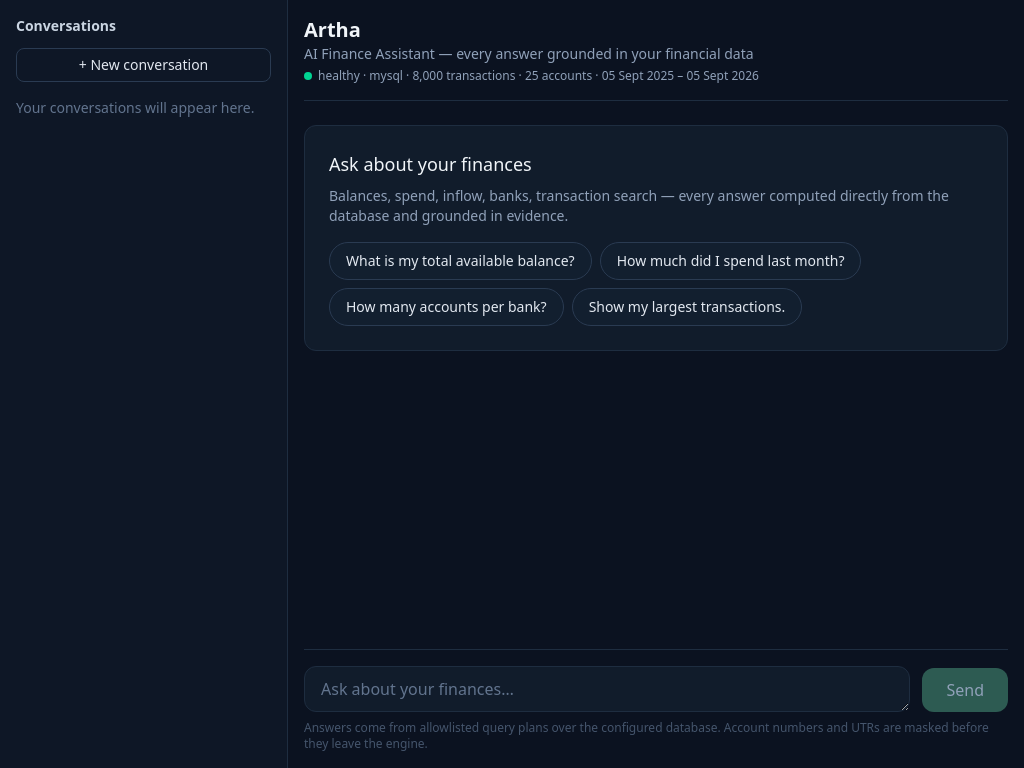
it: lists completed conversations and restores a selected conversation
expect the text "healthy · mysql" is shown: met, box [318,68,759,84]
Type "First question" into the text box named "Ask a question" at (607, 689), box [304,666,910,712]
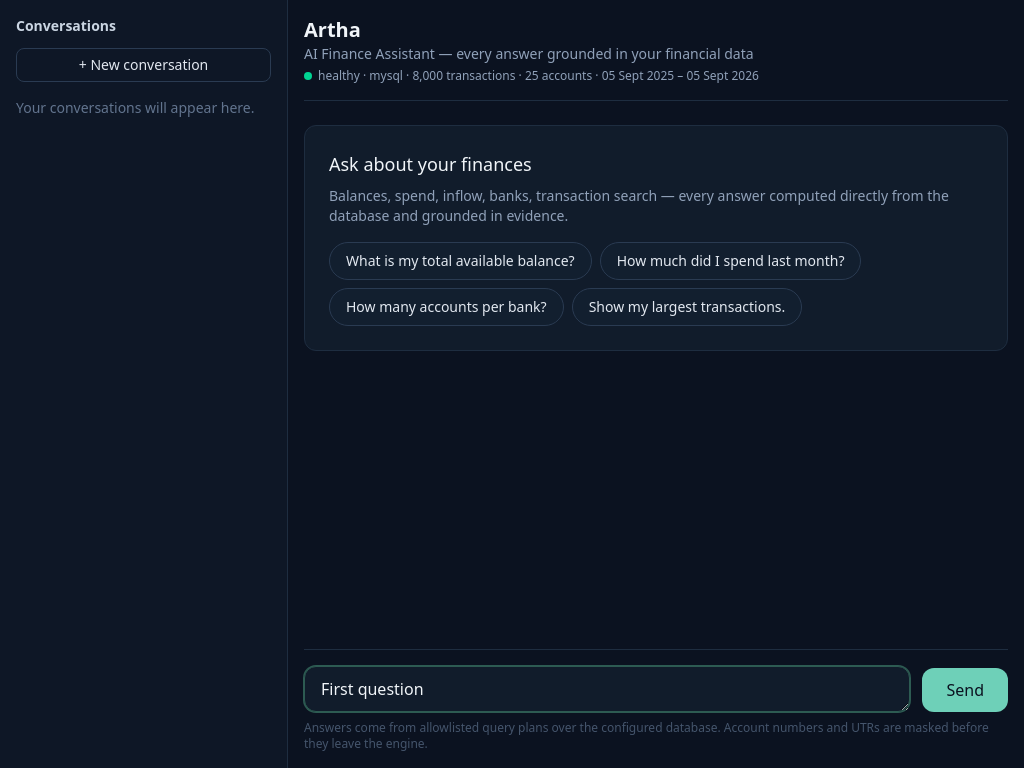
Click the button "Send" at (965, 690), box [922,668,1008,712]
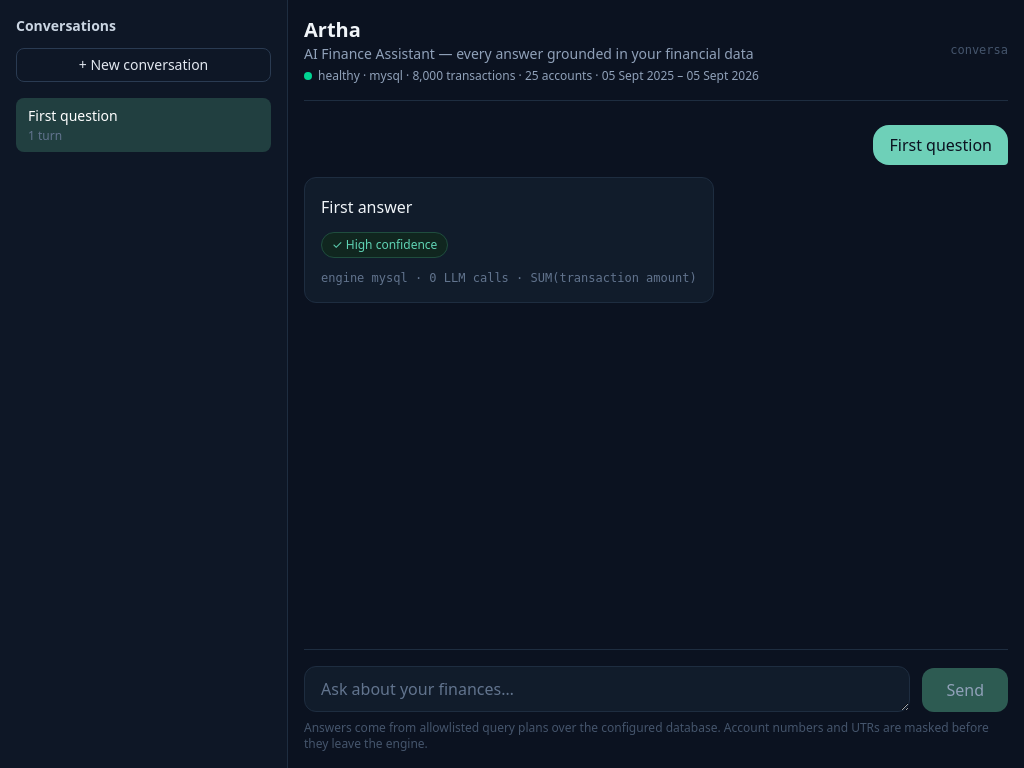
expect the text "First answer" is shown: met, box [321,196,412,218]
Click the button "+ New conversation" at (144, 65), box [16,48,271,82]
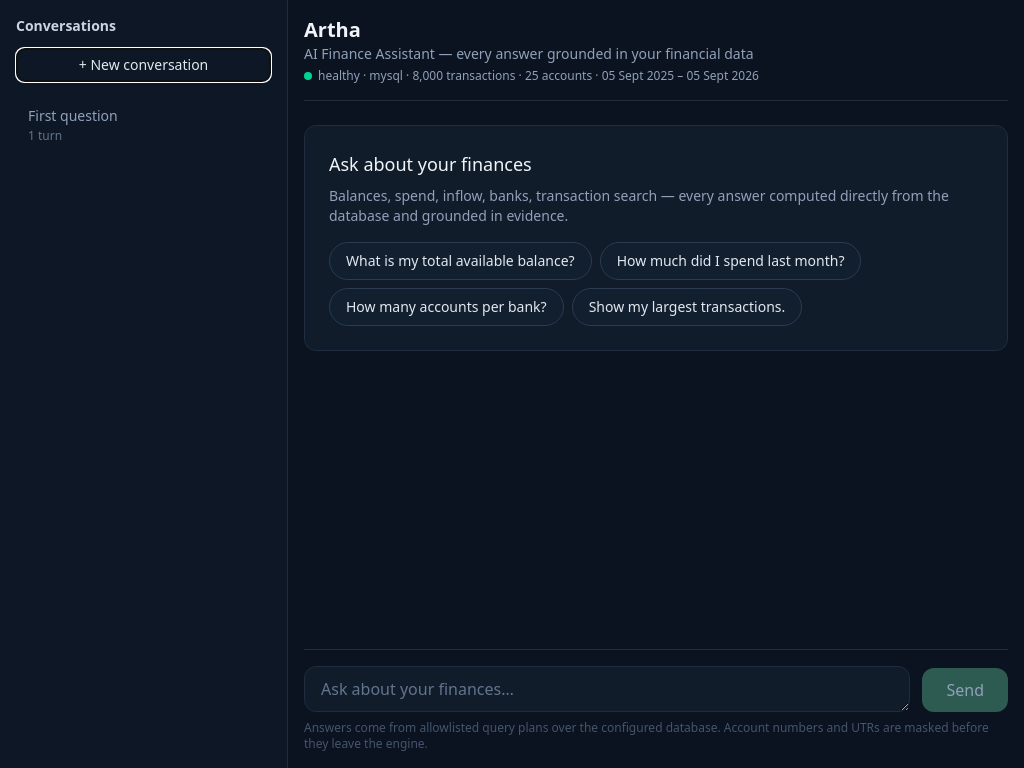
Type "Second question" into the text box named "Ask a question" at (607, 689), box [304,666,910,712]
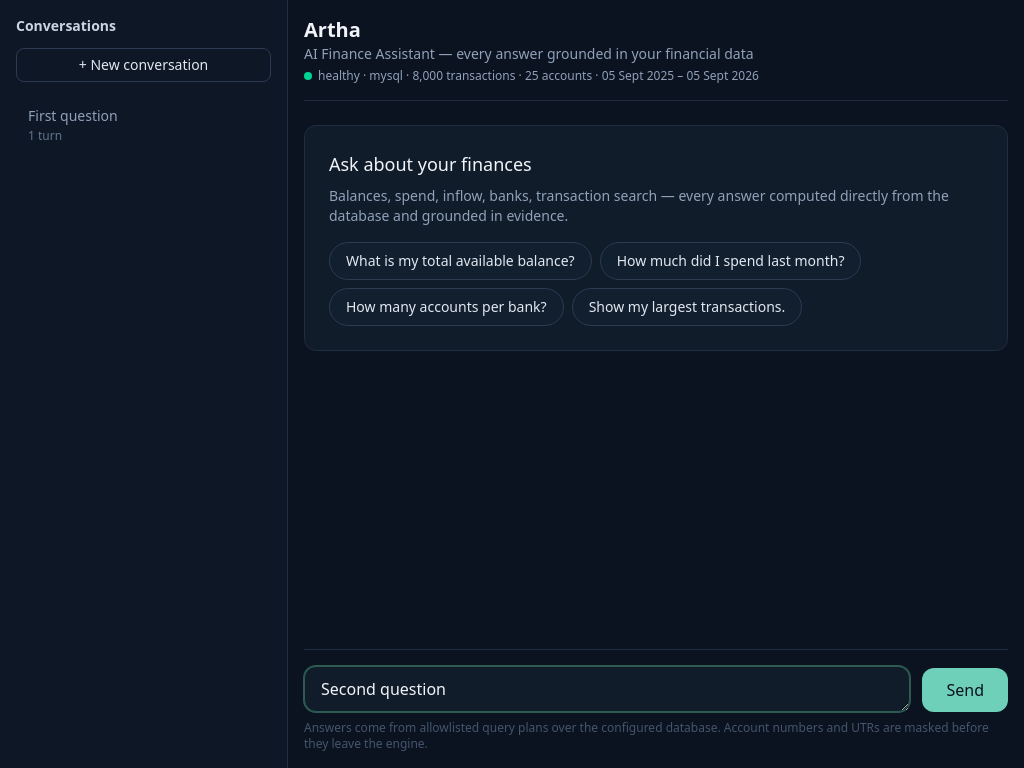
Click the button "Send" at (965, 690), box [922,668,1008,712]
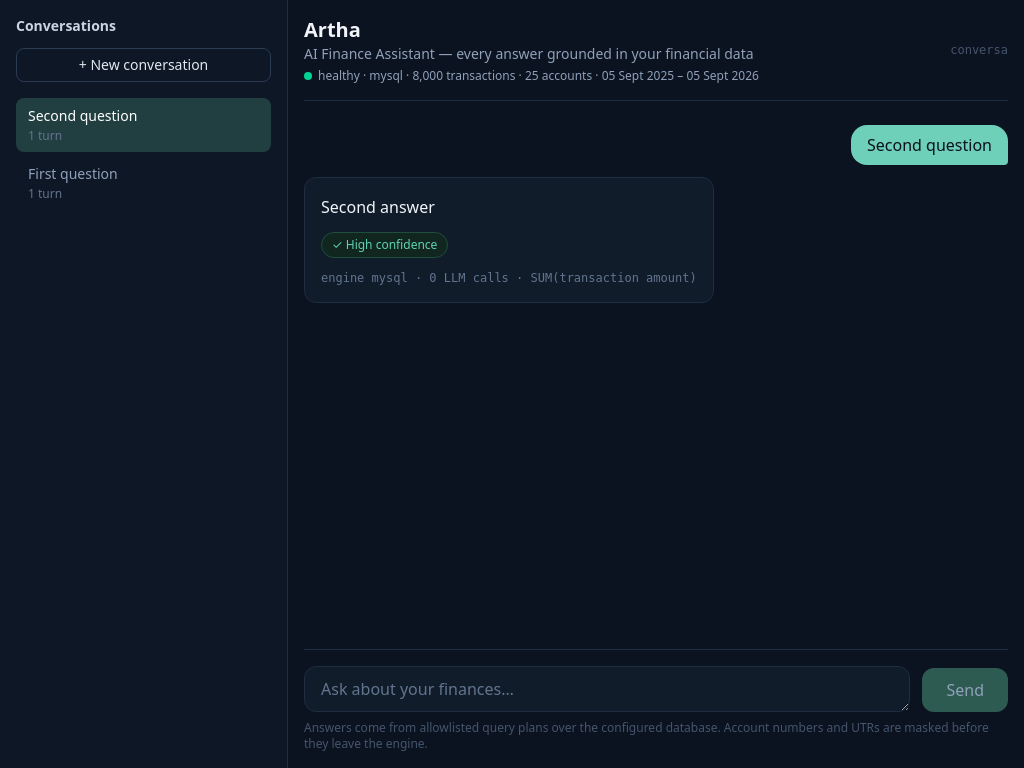
expect the button titled "First question" shows "1 turn": met
expect the text "Second answer" is shown: met, box [321,196,435,218]
Click the button titled "First question" at (144, 183), box [16,156,271,210]
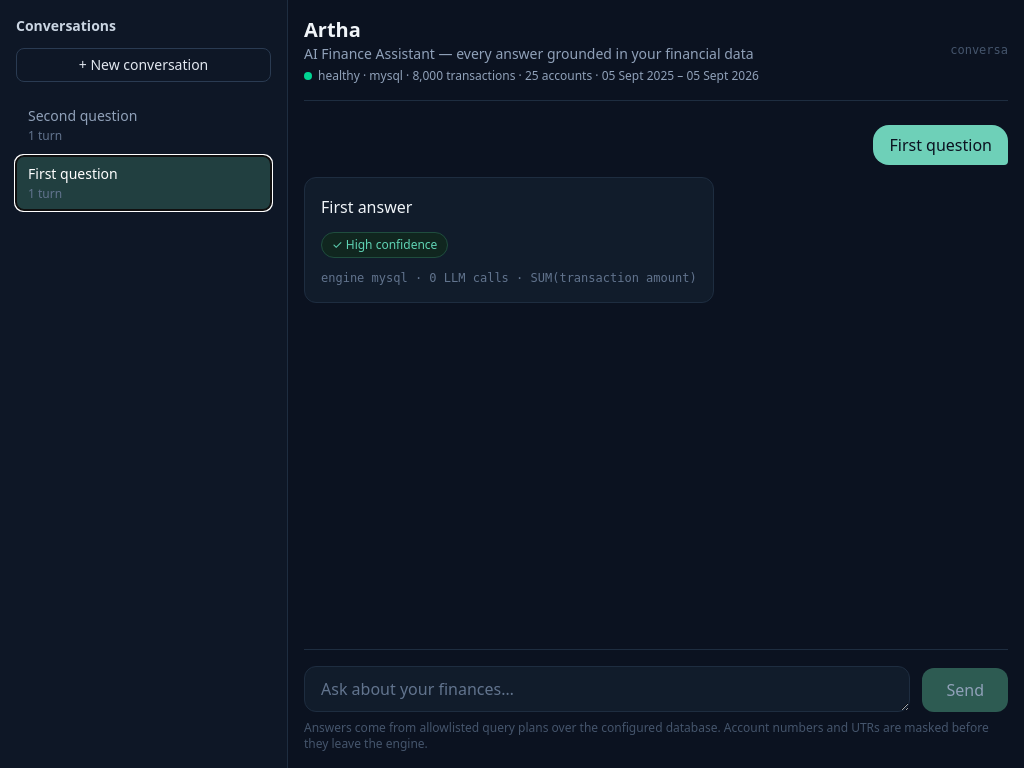
expect the text "First answer" is shown: met, box [321,196,412,218]
expect the text "Second answer" is gone: met
